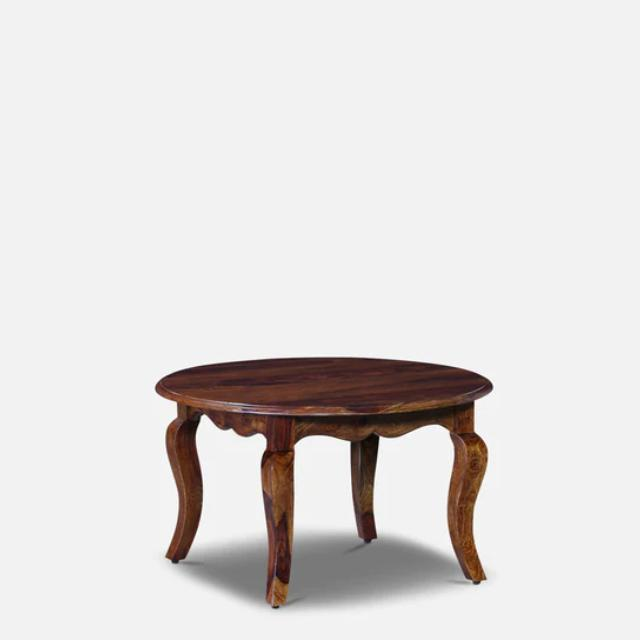obstacle: (120, 298, 580, 614)
